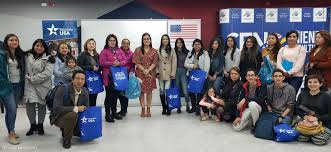person: (60, 74, 88, 113), (29, 35, 56, 73), (270, 76, 299, 104), (101, 31, 121, 62), (241, 33, 260, 64), (139, 31, 155, 67), (304, 81, 326, 107), (282, 32, 303, 59), (243, 71, 263, 97), (260, 33, 279, 59), (159, 30, 173, 65), (309, 32, 327, 56)
